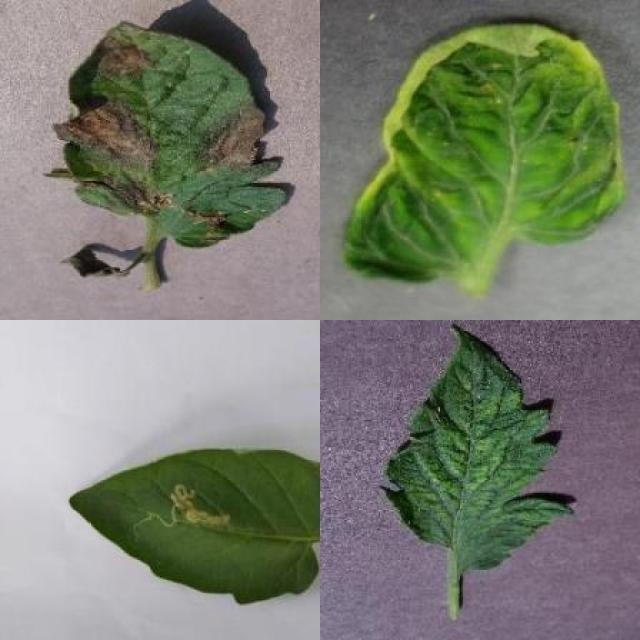Late Blight: (44, 18, 289, 248)
Leaf Miner: (69, 447, 320, 607)
Mosaic Virus: (379, 326, 577, 574)
Yellow Leaf Curl Virus: (340, 23, 626, 286)
